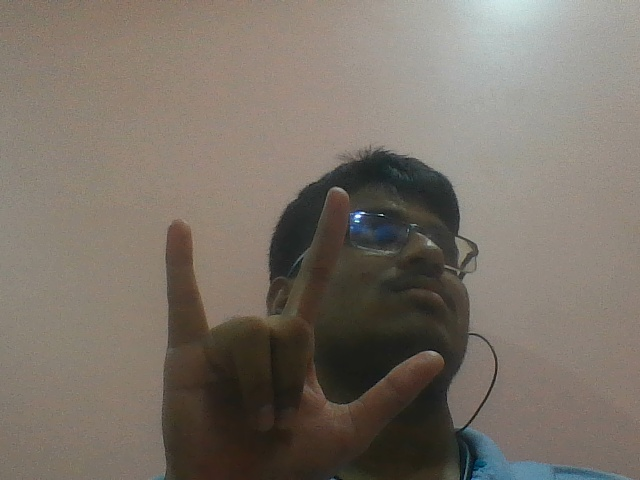iloveyou: (156, 186, 446, 474)
